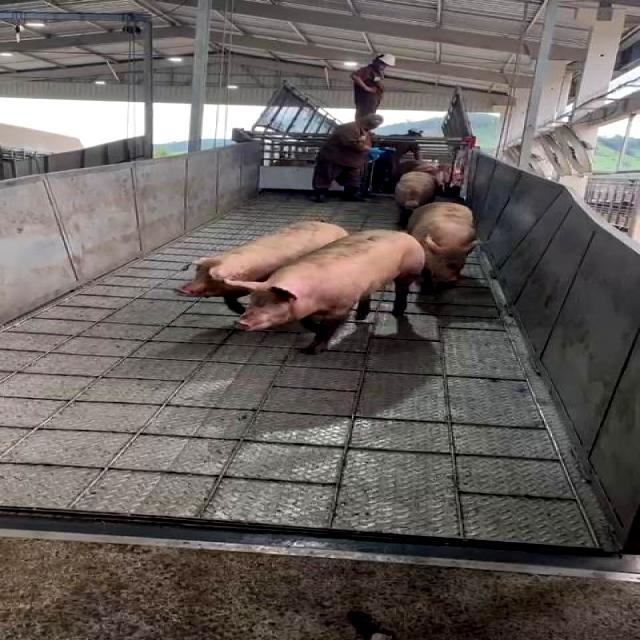pig: (235, 230, 423, 351), (179, 221, 348, 313), (408, 203, 475, 291), (395, 172, 439, 227)
